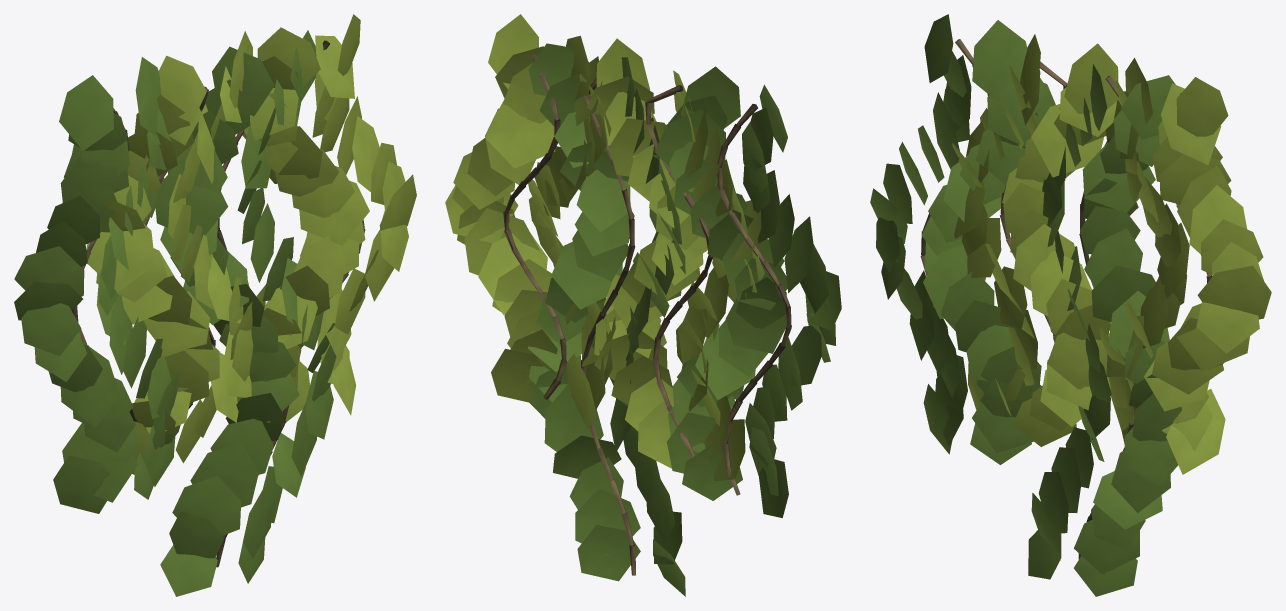
File: Ivy_Short.glb
The picture shows the model from 3 angles, left to right: view 1: azimuth 30°, elevation 25°; view 2: azimuth 150°, elevation 25°; view 3: azimuth 330°, elevation 25°; orthographic projection.
Visible parts, largest first — view 1: Ivy_Short; view 2: Ivy_Short; view 3: Ivy_Short.
Part boxes in pixels (x1=…): Ivy_Short: x1=14, y1=14, x2=416, y2=596; Ivy_Short: x1=445, y1=14, x2=841, y2=596; Ivy_Short: x1=870, y1=14, x2=1271, y2=596.
Bounding box in the file's own units: 1.29 × 1.69 × 0.2081.
Materials: 1 (1 with a texture image).
